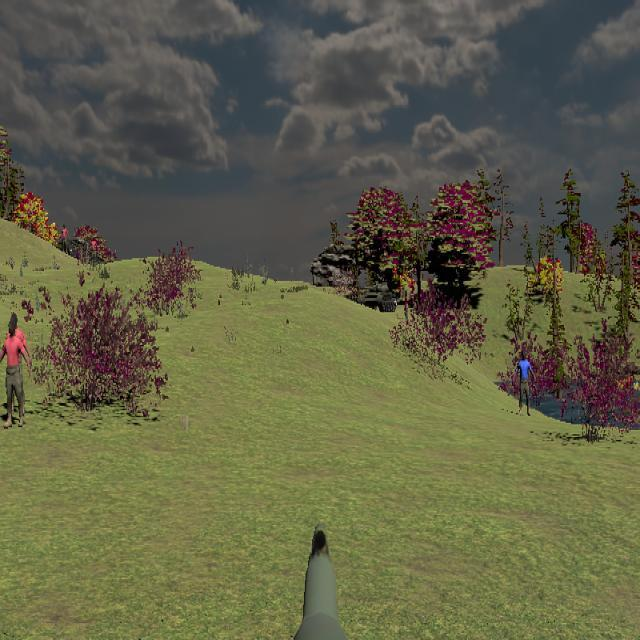Human: (0, 316, 31, 429), (514, 349, 536, 416)
Tank: (358, 281, 399, 313), (359, 281, 398, 313)
